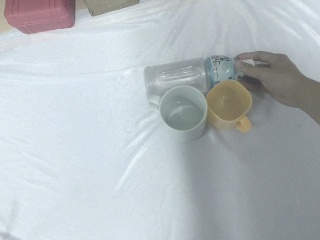bottle: (144, 55, 235, 111)
cup: (158, 85, 208, 144), (205, 79, 253, 133)
